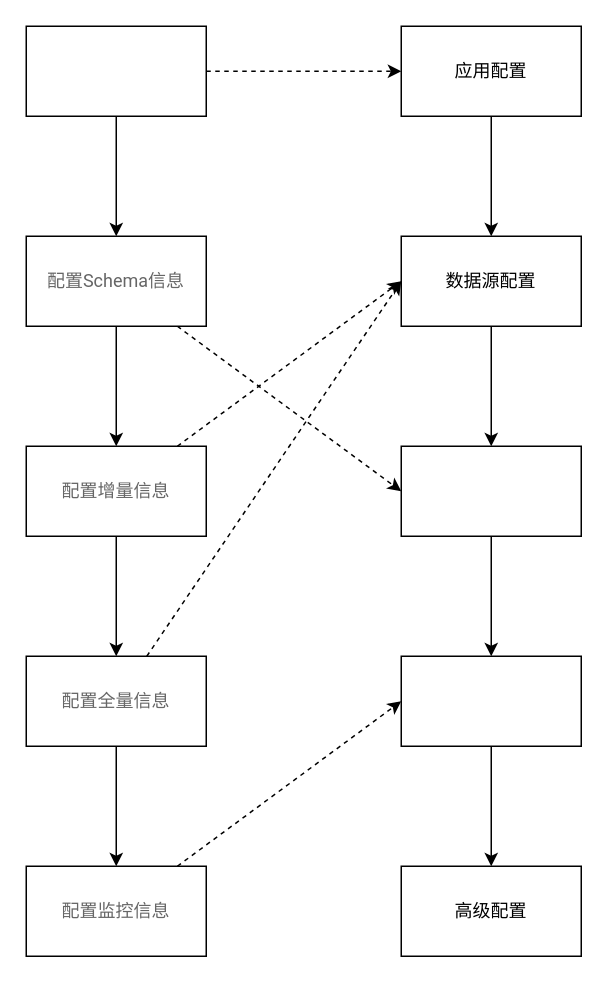
The diagram is 608 pixels wide and 983 high, and some of its shapes have lost their labels. Each missing label, with the centre of its shape:
"监控配置" belongs at pixel 490 700.
"索引结构配置" belongs at pixel 490 490.
"配置应用信息" belongs at pixel 115 70.
